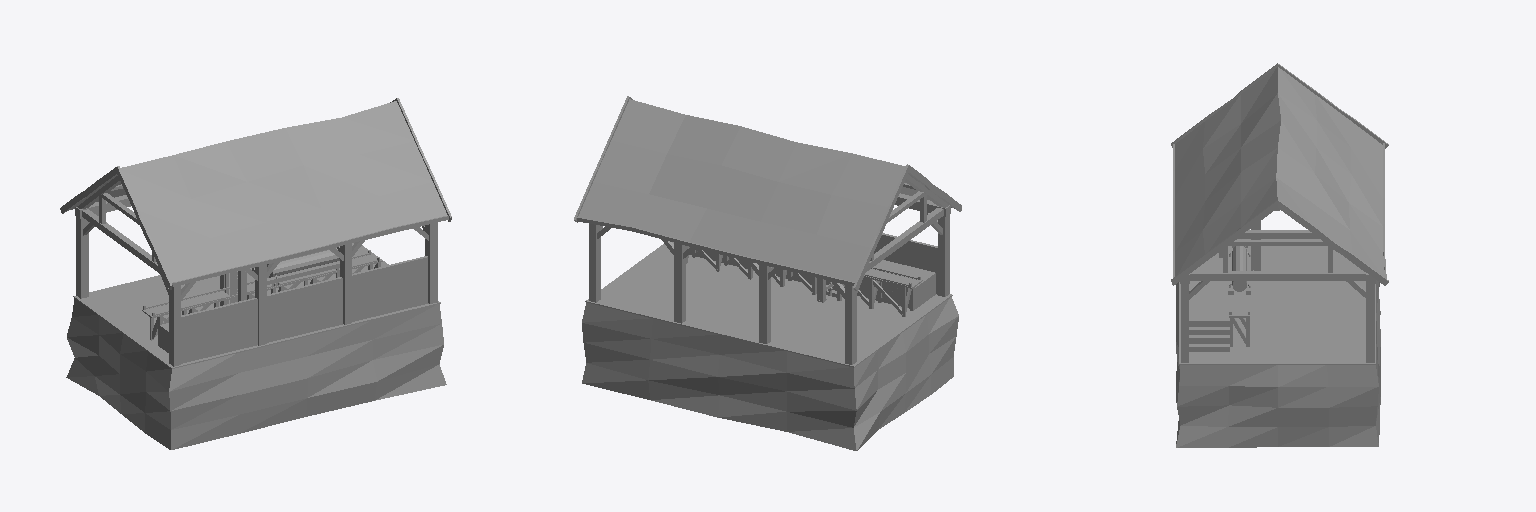
File: well.obj
The picture shows the model from 3 angles: view 1: azimuth 30°, elevation 25°; view 2: azimuth 150°, elevation 25°; view 3: azimuth 270°, elevation 25°; orthographic projection.
Visible parts, largest first — view 1: Roof_Cube.024, Foundation_Cube.031, Wall_Cube.030, WoodenFrame_Cube.006, Floor_Cube.003, RoofFrame_Cube.034, RailPlatform_Cube.020, Log_Cylinder.012, Rail_Cube.014, RailWagon_Cylinder.009; view 2: Roof_Cube.024, Foundation_Cube.031, Floor_Cube.003, WoodenFrame_Cube.006, RoofFrame_Cube.034, RailPlatform_Cube.020, Platform_Cube.029, Wall_Cube.030; view 3: Roof_Cube.024, Foundation_Cube.031, Floor_Cube.003, WoodenFrame_Cube.006, RoofFrame_Cube.034, Platform_Cube.029, RailPlatform_Cube.020.
Boxes of the visible parts, <box> form: Roof_Cube.024: <box>68,101,447,282</box>; Foundation_Cube.031: <box>66,298,446,449</box>; Wall_Cube.030: <box>181,256,428,363</box>; WoodenFrame_Cube.006: <box>75,176,437,366</box>; Floor_Cube.003: <box>73,243,440,368</box>; RoofFrame_Cube.034: <box>60,98,451,289</box>; RailPlatform_Cube.020: <box>142,253,382,345</box>; Log_Cylinder.012: <box>267,247,339,277</box>; Rail_Cube.014: <box>143,250,379,316</box>; RailWagon_Cylinder.009: <box>267,258,339,286</box>; Roof_Cube.024: <box>578,99,952,281</box>; Foundation_Cube.031: <box>582,292,958,450</box>; Floor_Cube.003: <box>585,242,952,367</box>; WoodenFrame_Cube.006: <box>589,174,950,364</box>; RoofFrame_Cube.034: <box>574,96,961,290</box>; RailPlatform_Cube.020: <box>686,247,922,316</box>; Platform_Cube.029: <box>689,249,935,308</box>; Wall_Cube.030: <box>874,233,937,294</box>; Roof_Cube.024: <box>1175,67,1384,276</box>; Foundation_Cube.031: <box>1176,280,1380,447</box>; Floor_Cube.003: <box>1179,239,1375,364</box>; WoodenFrame_Cube.006: <box>1180,208,1375,362</box>; RoofFrame_Cube.034: <box>1171,63,1388,285</box>; Platform_Cube.029: <box>1189,246,1229,351</box>; RailPlatform_Cube.020: <box>1229,239,1249,346</box>.
Bounding box in the file's own units: 11.05 × 9.29 × 7.38.